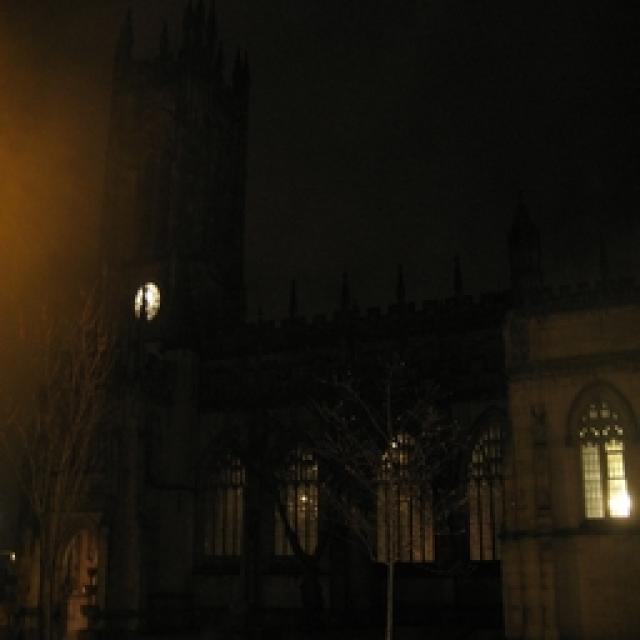Abbey: (97, 6, 630, 638)
